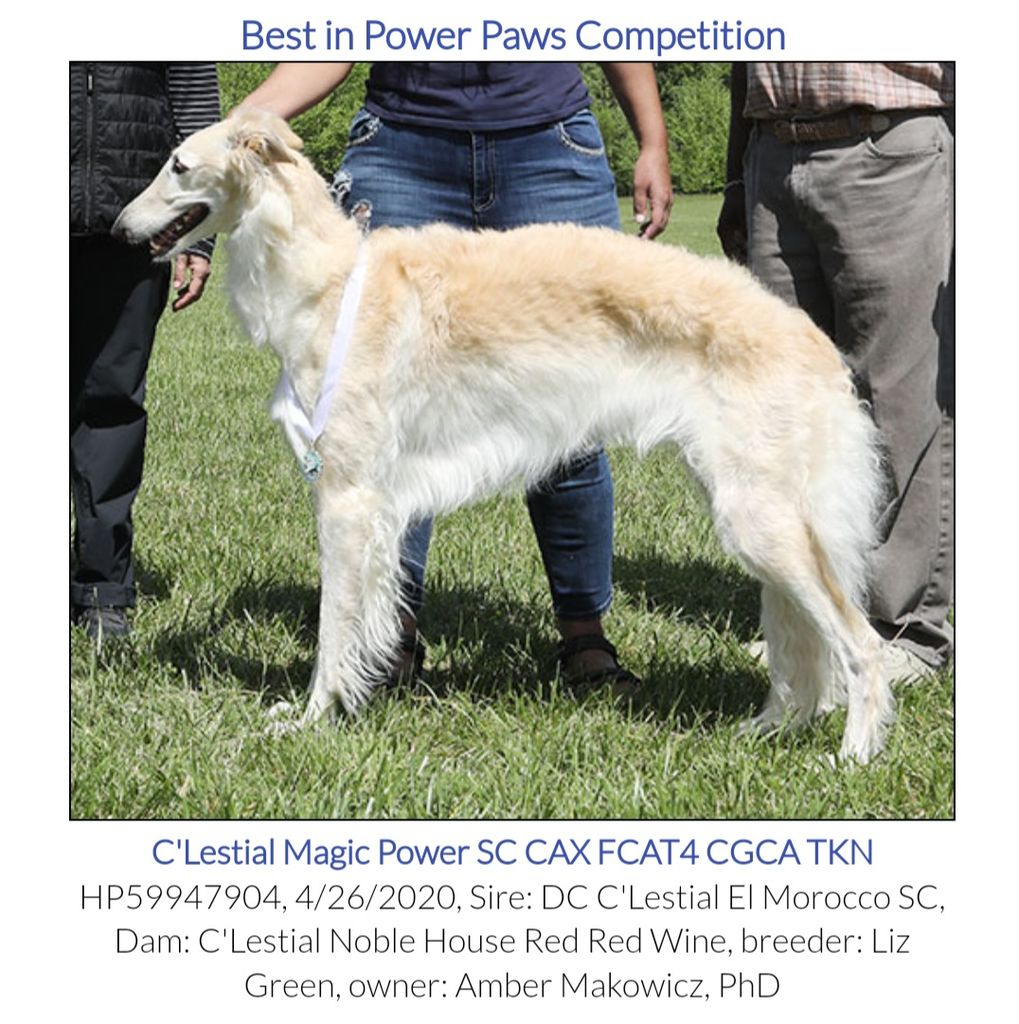borzoi: (92, 114, 918, 766)
